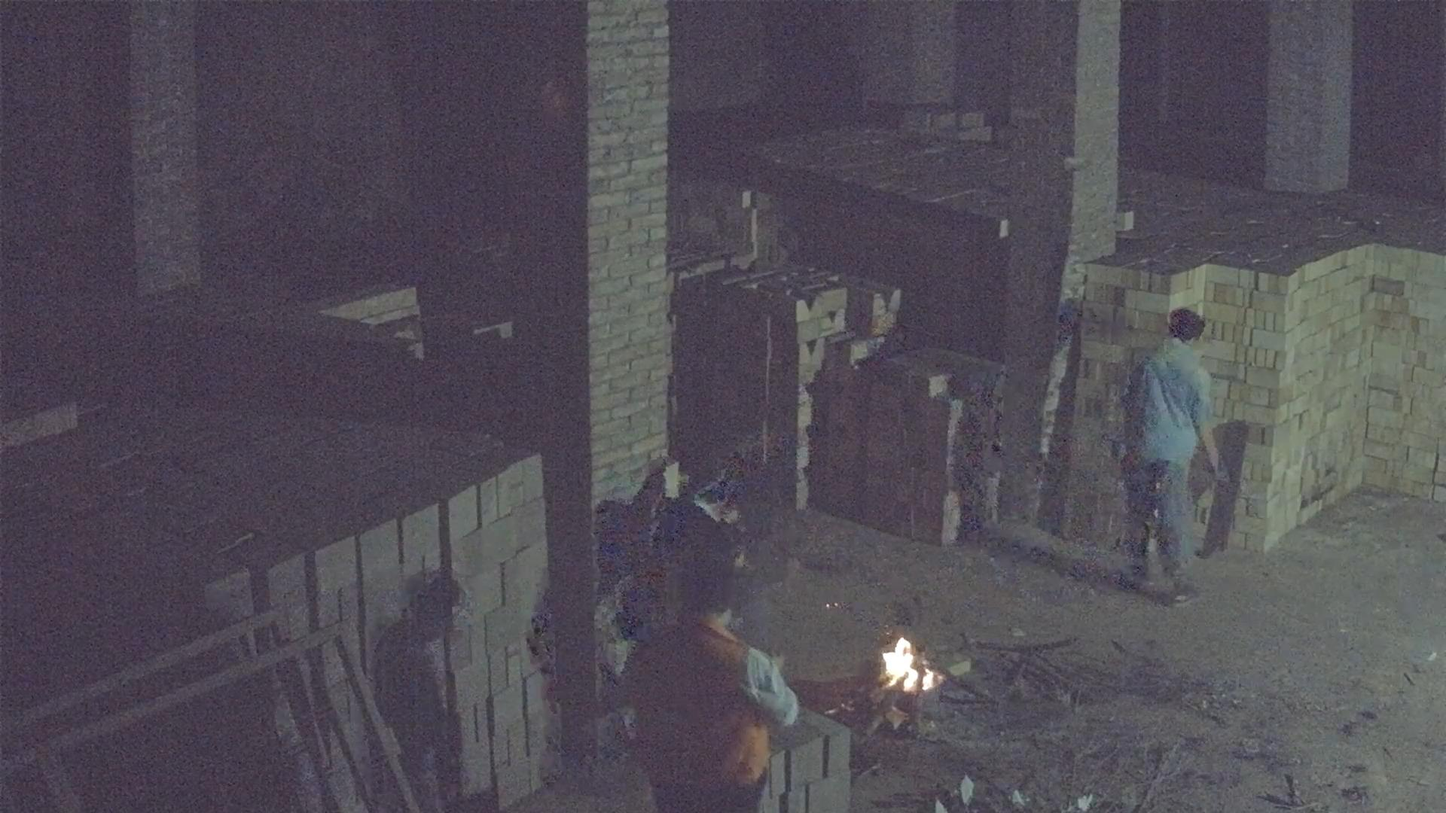fire: (881, 638, 940, 693)
